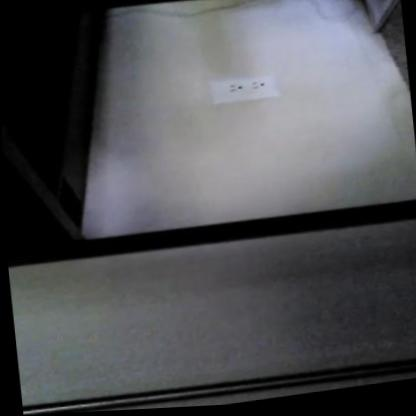OUTLET: (208, 71, 279, 104)
